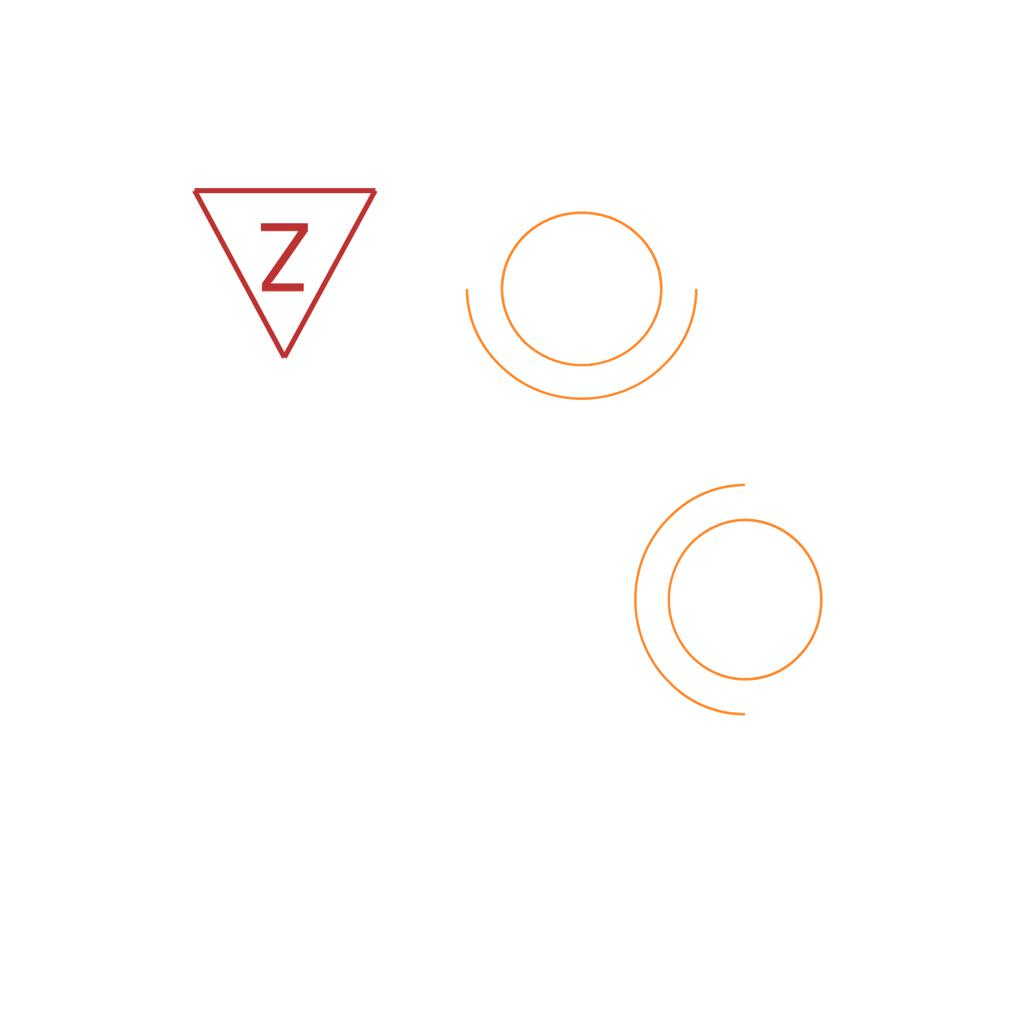Scheinwerfer_fuer_Alarmbeleuchtung: (456, 186, 720, 411), (623, 474, 848, 738)
Zimmersignalleuchte: (189, 173, 385, 373)
